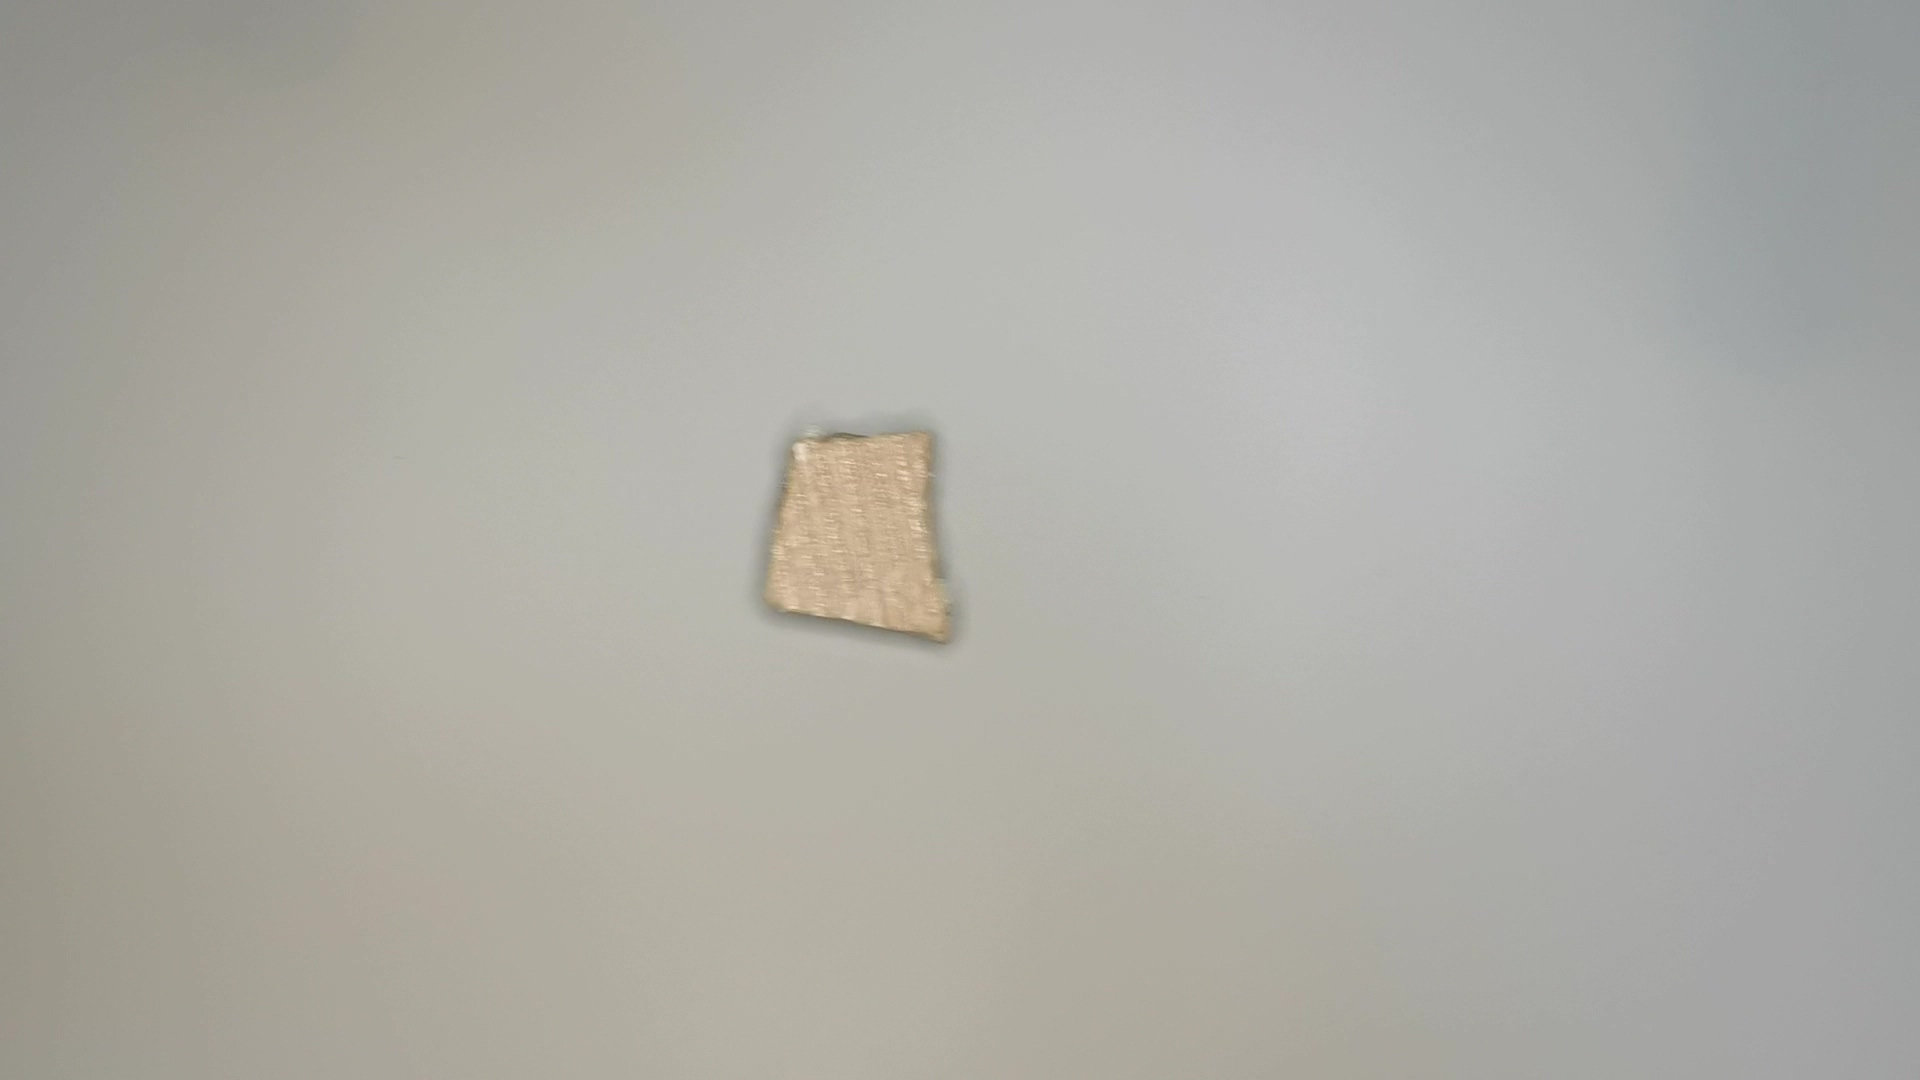ceramic: (754, 422, 975, 654)
